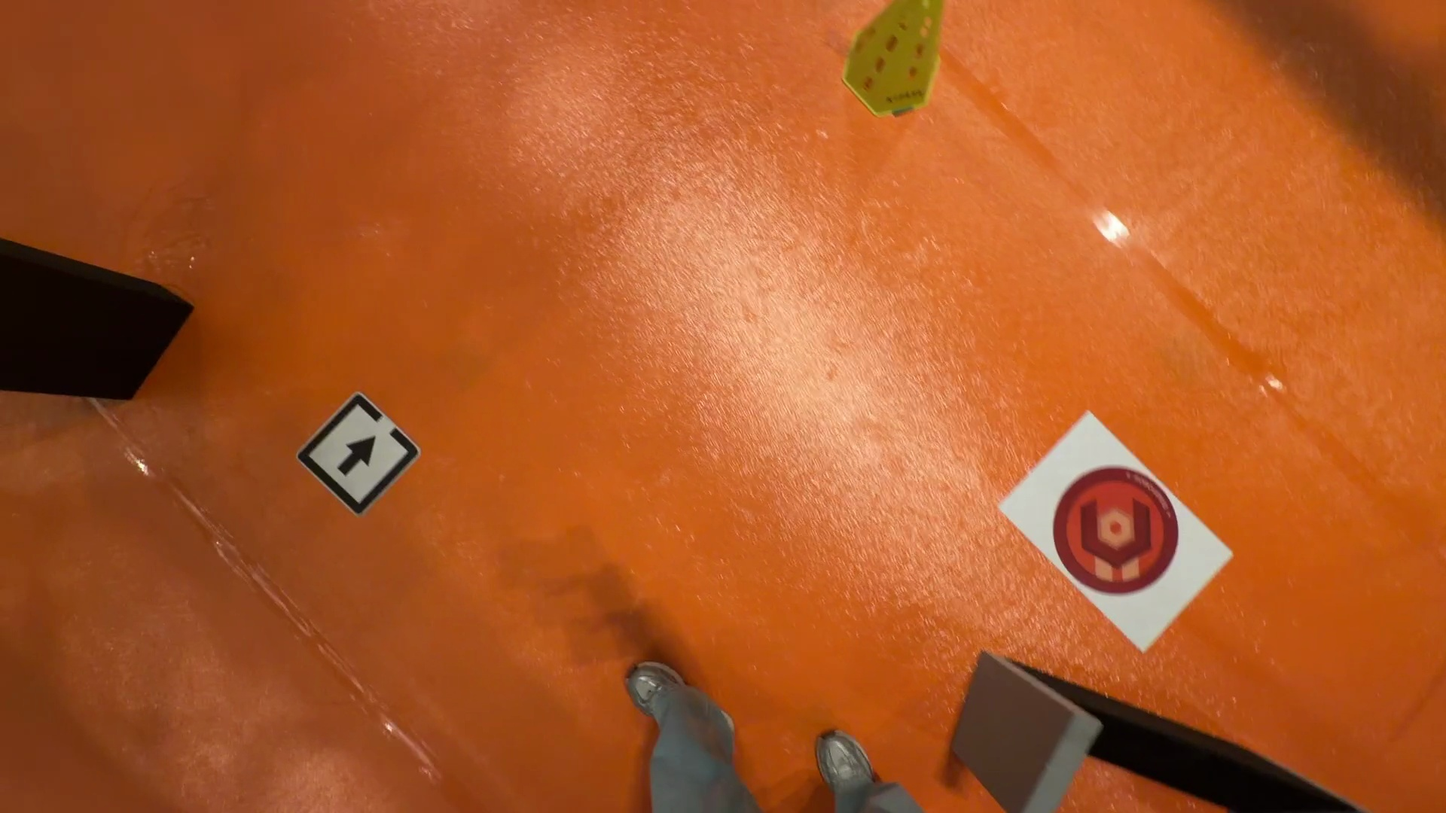landing_pad: (1052, 470, 1180, 596)
